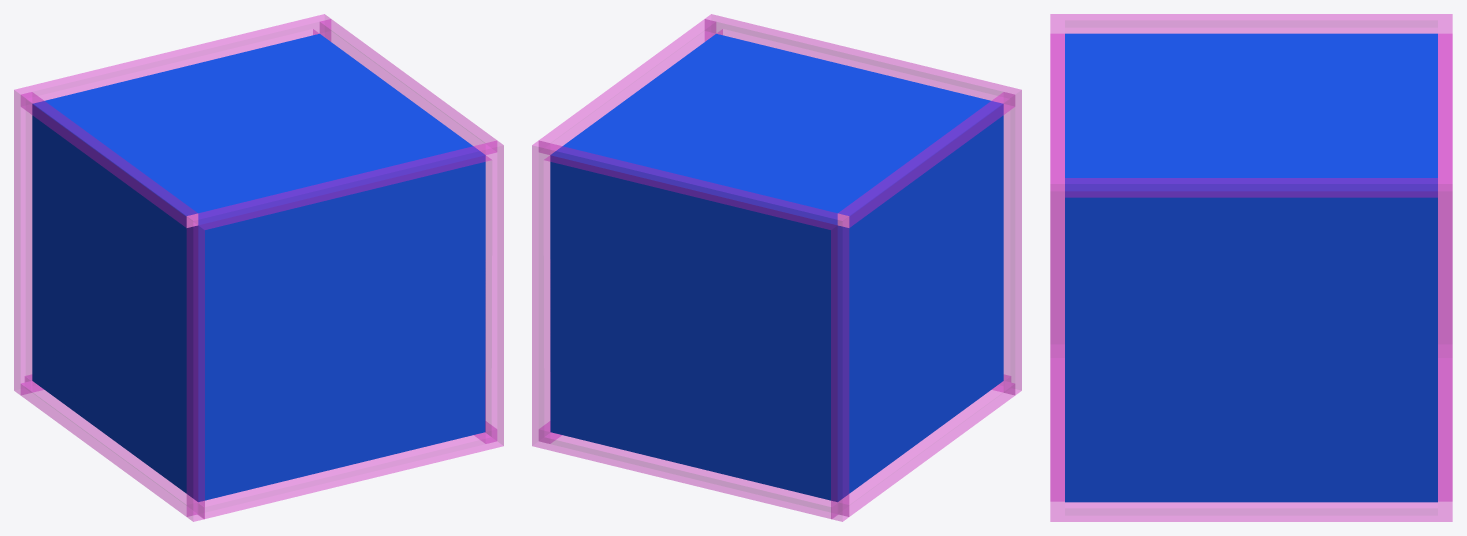
Rendered from MysteryBox.FBX.
3 renders of one model, left to right at view 1: azimuth 30°, elevation 25°; view 2: azimuth 150°, elevation 25°; view 3: azimuth 270°, elevation 25°, orthographic. The views are drawn at different scales.
Visible parts, largest first — view 1: Box001, Box002, Box003, Box005, Box006, Box004; view 2: Box001, Box003, Box002, Box005, Box006, Box004; view 3: Box001, Box002, Box003, Box005, Box006, Box007.
Boxes of the visible parts, box(x1,y1,x2,y2) form: Box001: box(32, 33, 485, 501); Box002: box(187, 140, 503, 521); Box003: box(14, 14, 330, 395); Box005: box(21, 92, 197, 227); Box006: box(320, 19, 496, 154); Box004: box(21, 381, 197, 516); Box001: box(550, 33, 1003, 501); Box003: box(532, 140, 848, 521); Box002: box(705, 14, 1021, 395); Box005: box(838, 92, 1014, 227); Box006: box(539, 19, 715, 154); Box004: box(838, 381, 1014, 516); Box001: box(1065, 33, 1437, 502); Box002: box(1050, 14, 1064, 521); Box003: box(1438, 14, 1452, 521); Box005: box(1065, 14, 1437, 33); Box006: box(1065, 178, 1437, 197); Box007: box(1065, 502, 1437, 521).
Size of the model in its own units: 54 by 50 by 54.
